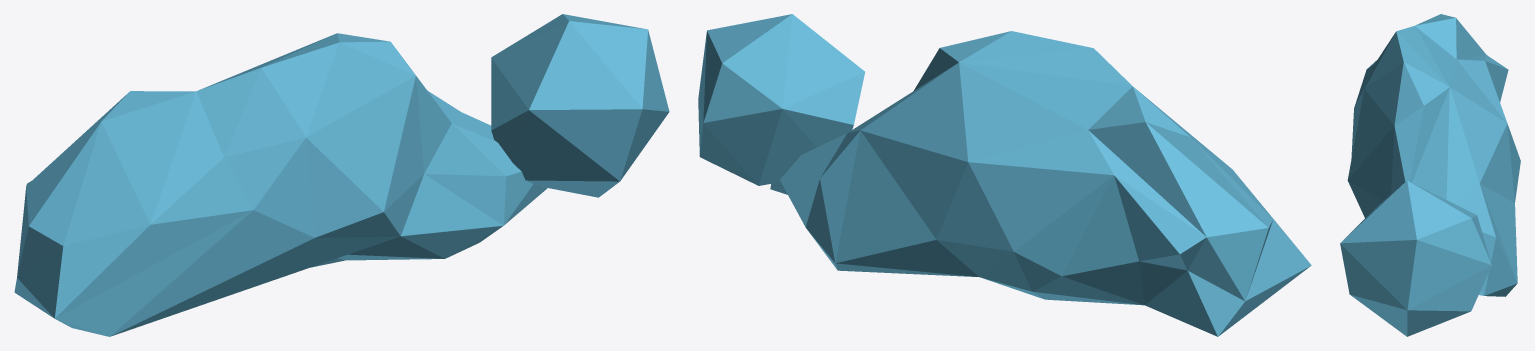
Rendered from Cloud_v05.fbx.
3 views of the same model, side by side, from view 1: azimuth 30°, elevation 25°; view 2: azimuth 150°, elevation 25°; view 3: azimuth 270°, elevation 25° (orthographic). The views are drawn at different scales.
Visible parts, largest first — view 1: Cloud_v05; view 2: Cloud_v05; view 3: Cloud_v05.
Part boxes in pixels (left/top/right/bottom): Cloud_v05: left=14, top=14, right=669, bottom=336; Cloud_v05: left=698, top=14, right=1311, bottom=336; Cloud_v05: left=1340, top=14, right=1520, bottom=336.
Size of the model in its own units: 50.63 by 18.16 by 15.81.
Materials: 1 (1 with a texture image).
